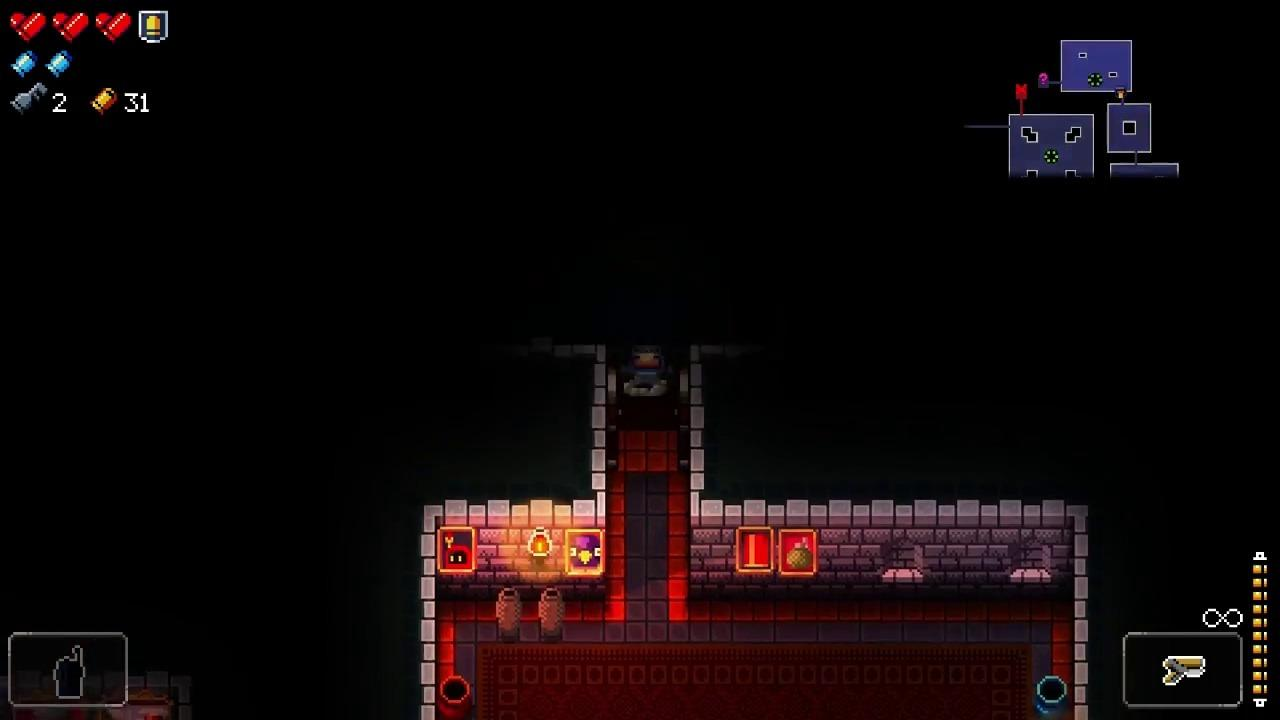player: (622, 343, 669, 386)
unlocked_door: (605, 365, 619, 472), (679, 366, 691, 471)
